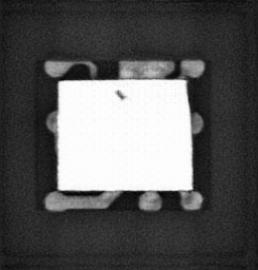DIE_INK: (114, 88, 128, 101)
